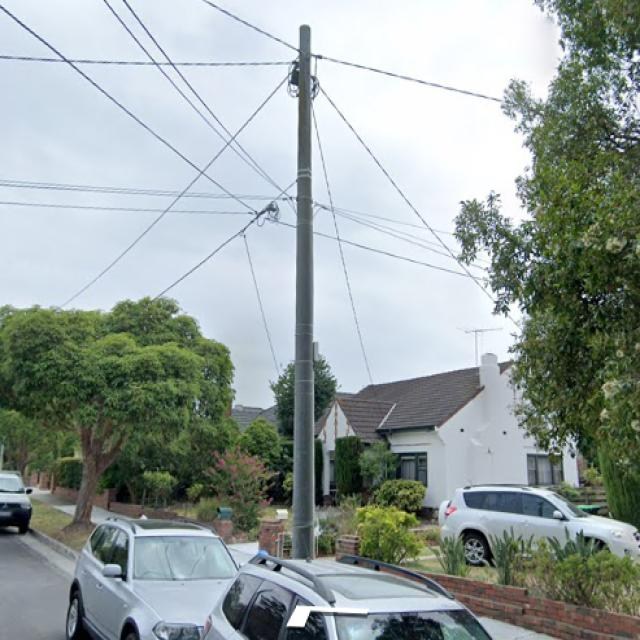concrete-pole: (290, 22, 315, 560)
